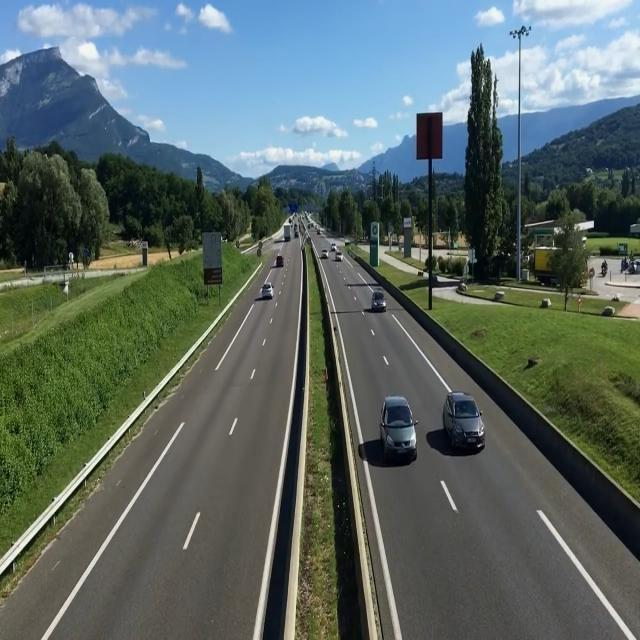Car: (442, 391, 486, 450), (380, 396, 420, 456), (371, 288, 387, 312), (260, 283, 274, 299), (276, 255, 284, 267), (334, 251, 343, 261), (321, 249, 328, 259), (330, 243, 337, 252), (317, 230, 321, 235)
Truck: (283, 223, 291, 241)
